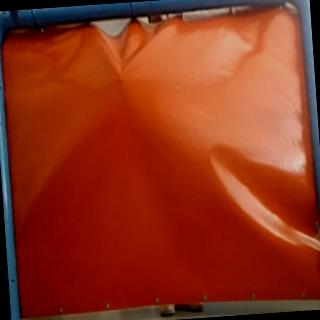Hit-hRxx: (110, 68, 130, 88)
